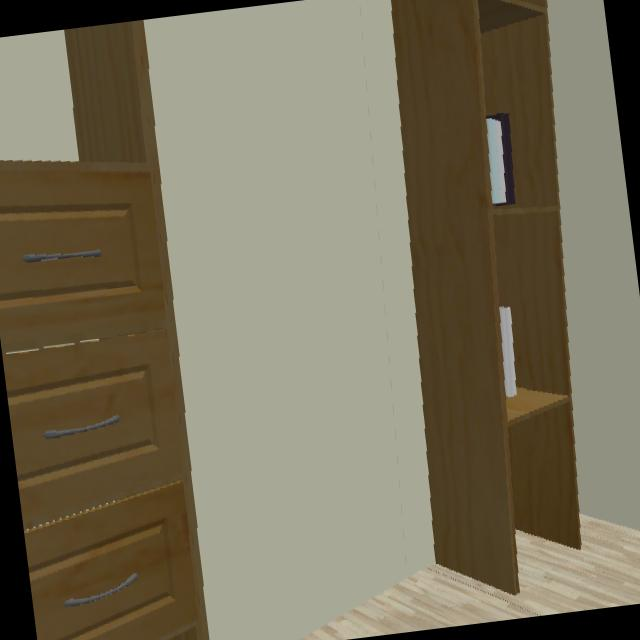book: (484, 111, 519, 209), (496, 302, 523, 403)
bookshelf: (389, 0, 581, 595)
cabinet: (0, 162, 208, 640)
